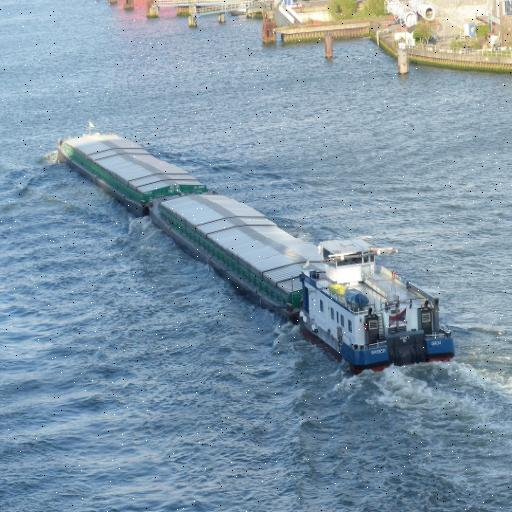tugboat: (294, 234, 461, 387)
